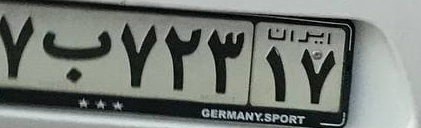character: (39, 15, 114, 92), (160, 16, 202, 97), (117, 15, 160, 93), (204, 26, 246, 102), (1, 9, 36, 90), (298, 43, 336, 109), (260, 42, 297, 105)
